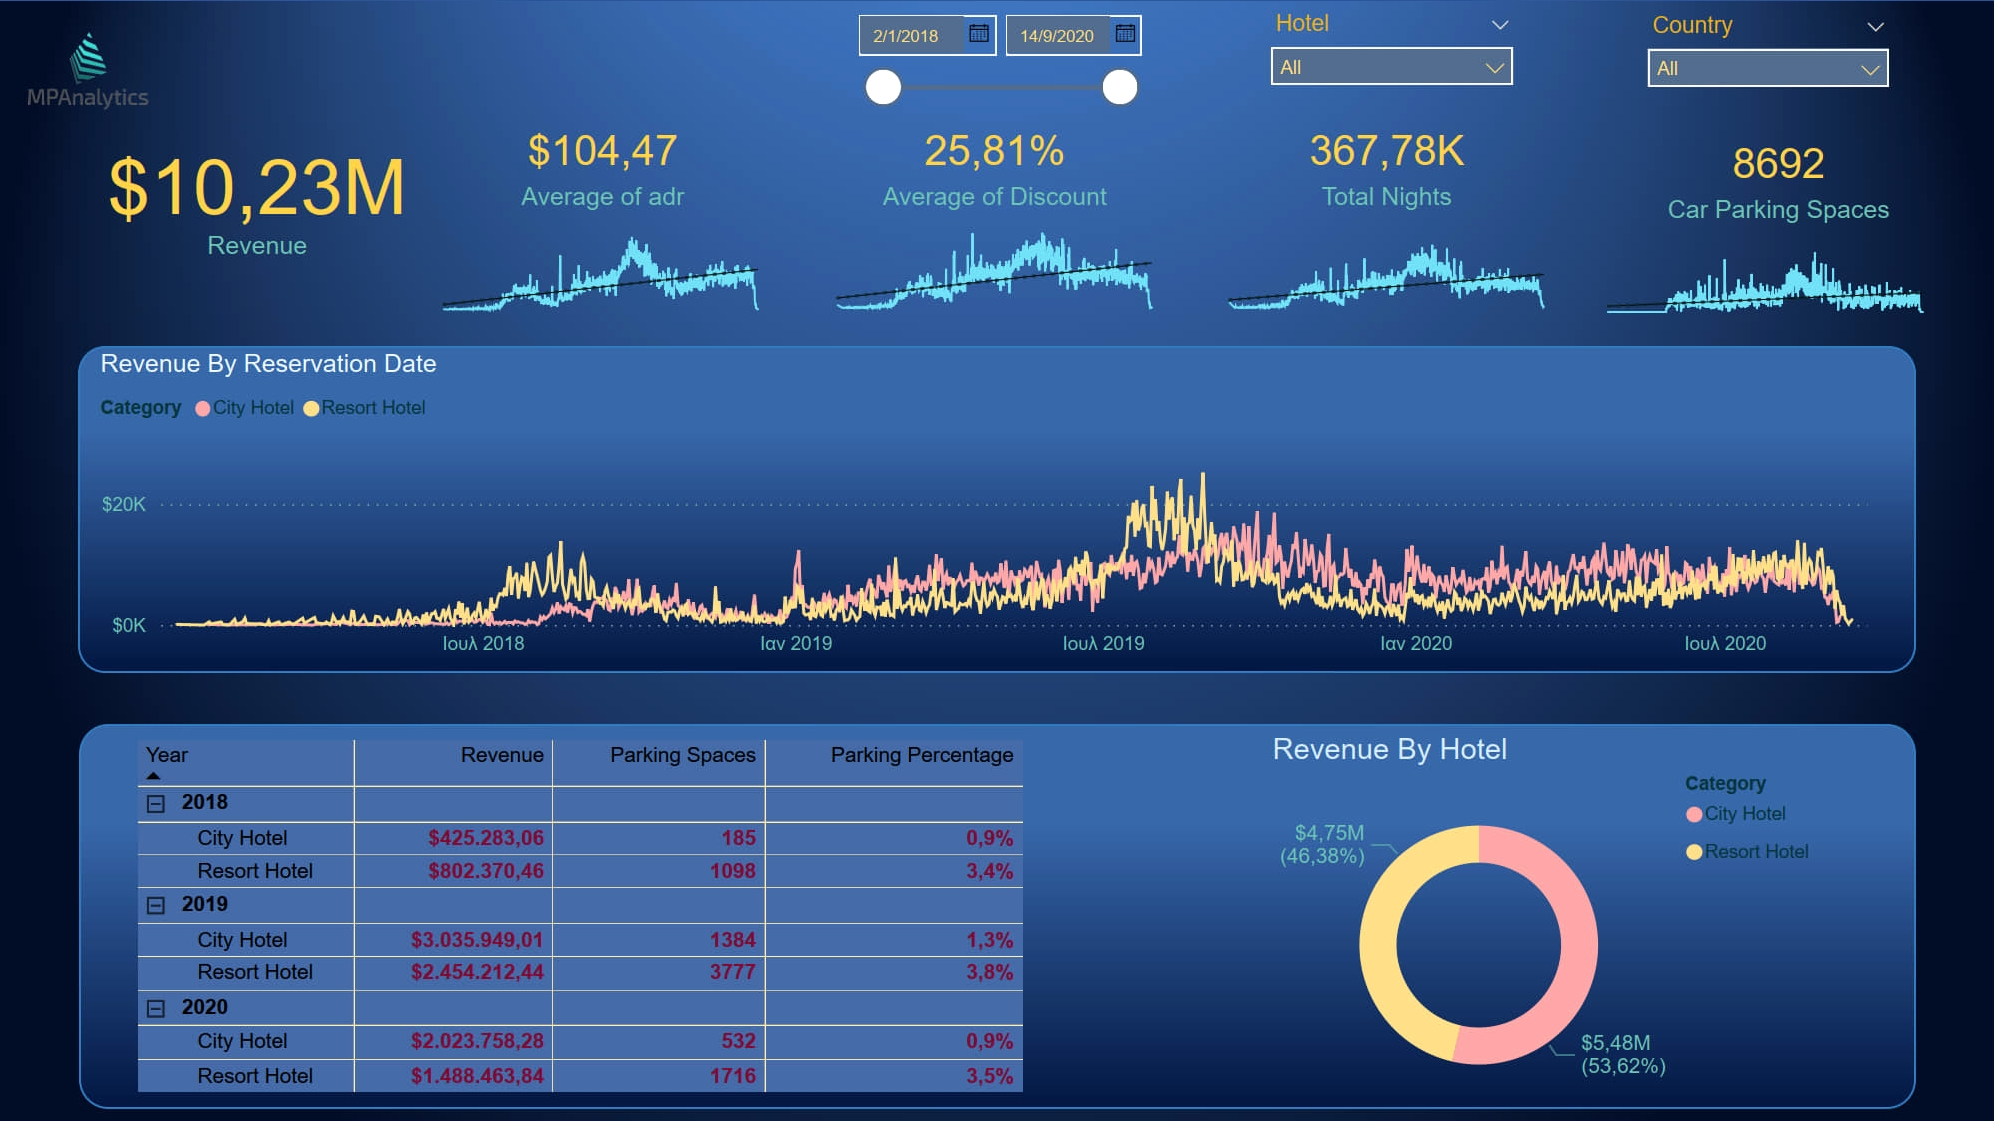

The page's visual inventory and layout, read from the dashboard file:
{"tool":"powerbi","page":{"name":"Hotel","canvas":[1280,720],"ordinal":0},"visuals":[{"type":"card","fields":{"Values":["Sum(Hotel.Revenue)"]},"box":[51.8,42.2,230.3,166],"z":0},{"type":"card","fields":{"Values":["Avg(Hotel.adr)"]},"box":[272.2,47.9,231.5,113.8],"z":1000},{"type":"card","fields":{"Values":["Hotel.Total Nights"]},"box":[774.5,47.8,231.5,113.8],"z":2000},{"type":"card","fields":{"Values":["Avg(Hotel.Discount)"]},"box":[523.4,47.8,231.5,113.8],"z":3000},{"type":"lineChart","title":"Revenue By Reservation Date","fields":{"Y":["Sum(Hotel.Revenue)"],"Category":["Hotel.reservation_status_date"],"Series":["Hotel.hotel"]},"box":[61.1,224.1,1158.4,203.7],"z":4000},{"type":"slicer","fields":{"Values":["Hotel.hotel"]},"box":[805.9,2.7,175.4,71.7],"z":5000},{"type":"image","box":[4.4,0,107.2,98.3],"z":6000},{"type":"slicer","fields":{"Values":["Hotel.country"]},"box":[1046.8,3.5,174.5,70.8],"z":7000},{"type":"lineChart","title":"Revenue By Reservation Date","fields":{"Y":["Sum(Hotel.adr)"],"Category":["Hotel.reservation_status_date"]},"box":[271.9,131.1,231.1,72.6],"z":8000},{"type":"lineChart","title":"Revenue By Reservation Date","fields":{"Y":["Hotel.Total Nights"],"Category":["Hotel.reservation_status_date"]},"box":[774.3,131.5,231.2,72],"z":9000},{"type":"lineChart","title":"Revenue By Reservation Date","fields":{"Category":["Hotel.reservation_status_date"],"Y":["Sum(Hotel.Discount)"]},"box":[522.9,131.5,231.2,72],"z":10000},{"type":"card","fields":{"Values":["Sum(Hotel.required_car_parking_spaces)"]},"box":[1025.7,56.6,231.2,114.2],"z":11000},{"type":"lineChart","title":"Revenue By Reservation Date","fields":{"Category":["Hotel.reservation_status_date"],"Y":["Sum(Hotel.required_car_parking_spaces)"]},"box":[1016.1,133.4,231.2,72],"z":12000},{"type":"donutChart","title":"Revenue By Hotel","fields":{"Y":["Sum(Hotel.Revenue)"],"Category":["Hotel.hotel"]},"box":[811.2,469.4,363.1,250.6],"z":13000},{"type":"pivotTable","fields":{"Rows":["Hotel.reservation_status_date.Variation.Date Hierarchy.Year","Hotel.hotel"],"Values":["Sum(Hotel.Revenue)","Sum(Hotel.required_car_parking_spaces)","Hotel.Parking Percentage"]},"box":[85.9,469.4,578.3,237.3],"z":14000},{"type":"slicer","fields":{"Values":["Hotel.reservation_status_date"]},"box":[539.3,0,201,73.5],"z":15000}]}

Visuals, with their boxes in screenshot pixels (x1, y1, x2, y2), scaled from the page's 1280x720 canvas onto the 1994x1121 screenshot:
card - Sum(Hotel.Revenue): 81 66 439 324
card - Avg(Hotel.adr): 424 75 785 252
card - Hotel.Total Nights: 1207 74 1567 252
card - Avg(Hotel.Discount): 815 74 1176 252
"Revenue By Reservation Date" lineChart: 95 349 1900 666
slicer - Hotel.hotel: 1255 4 1529 116
image: 7 0 174 153
slicer - Hotel.country: 1631 5 1903 116
"Revenue By Reservation Date" lineChart: 424 204 784 317
"Revenue By Reservation Date" lineChart: 1206 205 1566 317
"Revenue By Reservation Date" lineChart: 815 205 1175 317
card - Sum(Hotel.required_car_parking_spaces): 1598 88 1958 266
"Revenue By Reservation Date" lineChart: 1583 208 1943 320
"Revenue By Hotel" donutChart: 1264 731 1829 1120
pivotTable - Hotel.reservation_status_date.Variation.Date Hierarchy.Year x Hotel.hotel: 134 731 1035 1100
slicer - Hotel.reservation_status_date: 840 0 1153 114
